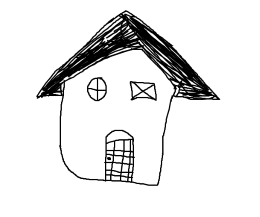closed_window: (84, 72, 111, 106), (127, 77, 160, 104)
door: (100, 124, 138, 189)
shaded_roof: (36, 10, 218, 99)
wall: (56, 49, 177, 188)
